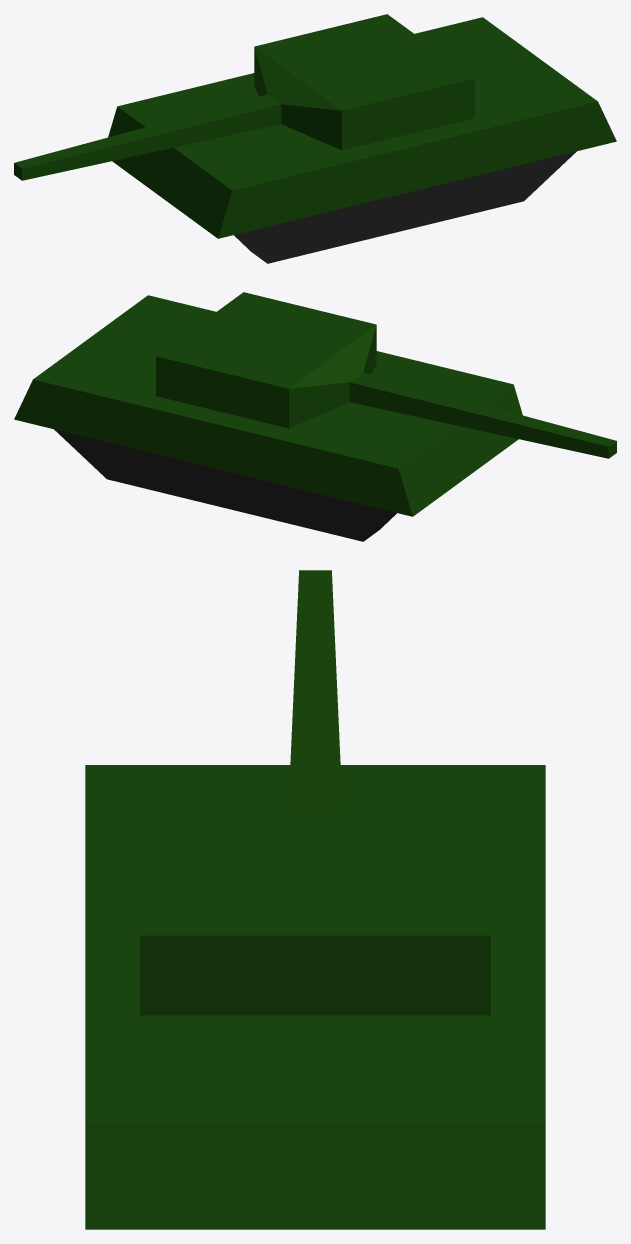
The model's file is Tank.glb.
The picture shows the model from 3 angles, top to bottom: view 1: azimuth 30°, elevation 25°; view 2: azimuth 150°, elevation 25°; view 3: azimuth 270°, elevation 25°; orthographic projection. The views are drawn at different scales.
Visible parts, largest first — view 1: Chassis, Turret, Wheels; view 2: Chassis, Turret, Wheels; view 3: Chassis, Turret.
Part boxes in pixels (x1,y1,x2,y2): Chassis: (108,17,616,238); Turret: (14,14,474,180); Wheels: (234,151,576,263); Chassis: (14,295,522,516); Turret: (156,292,616,458); Wheels: (54,429,396,541); Chassis: (85,765,545,1229); Turret: (140,570,490,1015).
Bounding box in the file's own units: 11.4 × 2.5 × 4.2.
